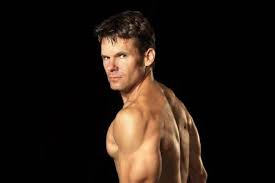white_male: (93, 29, 153, 96)
